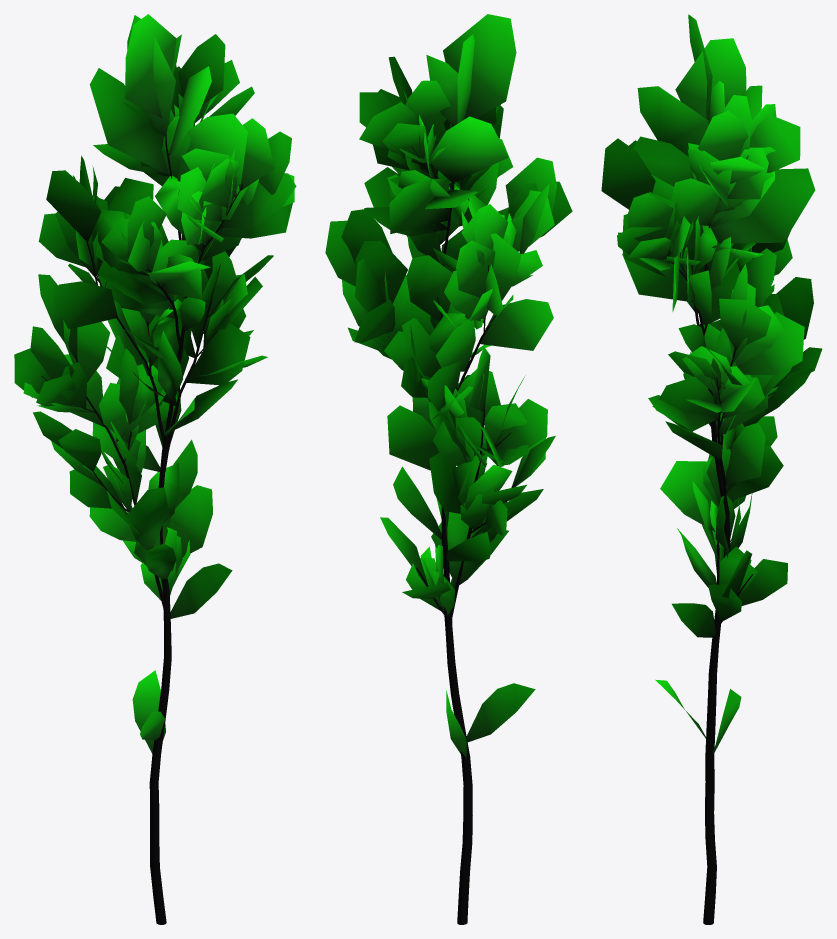
Rendered from Oak_Small_7.fbx.
The picture shows the model from 3 angles, left to right: view 1: azimuth 30°, elevation 25°; view 2: azimuth 150°, elevation 25°; view 3: azimuth 270°, elevation 25°; orthographic projection. The views are drawn at different scales.
Parts seen in each view (by area): view 1: Oak_Small_7_Branch; view 2: Oak_Small_7_Branch; view 3: Oak_Small_7_Branch.
Boxes of the visible parts, bbox=[...] form: Oak_Small_7_Branch: bbox=[14, 14, 296, 924]; Oak_Small_7_Branch: bbox=[325, 14, 572, 924]; Oak_Small_7_Branch: bbox=[601, 14, 822, 924].
Bounding box in the file's own units: 4.46 × 17.3 × 3.88.
